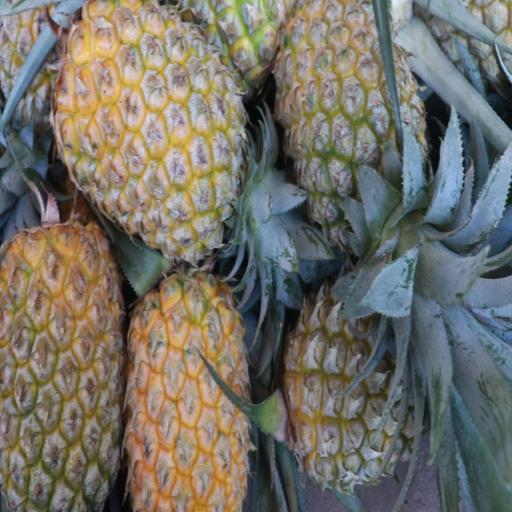------------------------------: (279, 0, 421, 238), (288, 272, 422, 483), (0, 1, 73, 112)
Pineapple - v8 v1: (58, 0, 241, 247), (0, 229, 127, 508), (127, 276, 250, 510)
